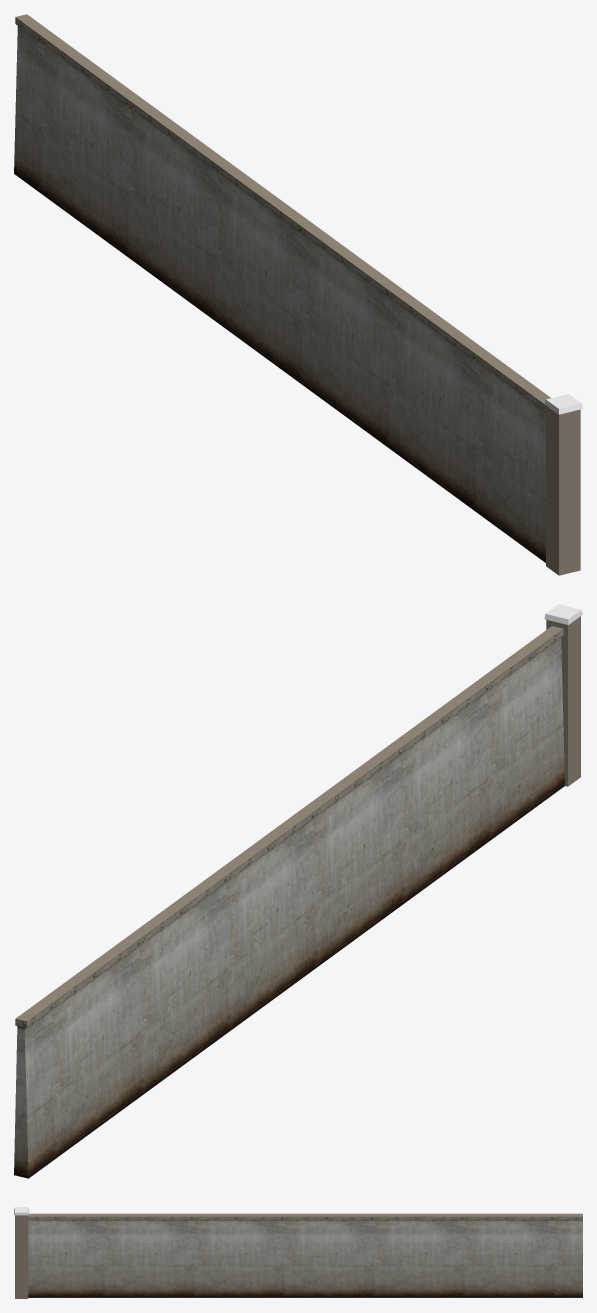
File: Wall.fbx
The picture shows the model from 3 angles, top to bottom: view 1: azimuth 30°, elevation 25°; view 2: azimuth 150°, elevation 25°; view 3: azimuth 270°, elevation 25°; orthographic projection. The views are drawn at different scales.
Parts seen in each view (by area): view 1: Model; view 2: Model; view 3: Model.
Part boxes in pixels (x1=…): Model: x1=14, y1=14, x2=582, y2=575; Model: x1=14, y1=604, x2=582, y2=1178; Model: x1=14, y1=1207, x2=582, y2=1298.
Bounding box in the file's own units: 0.48 × 3.18 × 18.96.
